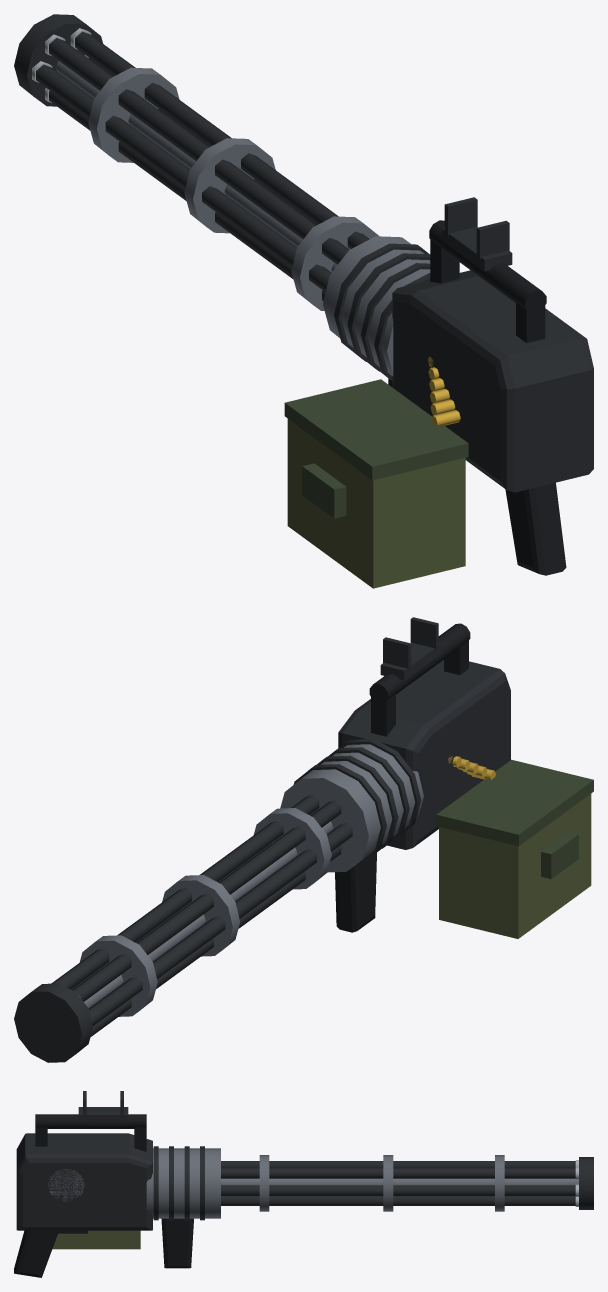
The model's file is minigun.glb.
3 renders of one model, top to bottom at view 1: azimuth 30°, elevation 25°; view 2: azimuth 150°, elevation 25°; view 3: azimuth 270°, elevation 25°, orthographic. The views are drawn at different scales.
Parts seen in each view (by area): view 1: object 5, rotor (×2), chargeur (×3), object 6, object 4; view 2: rotor (×2), chargeur (×2), object 5, object 4, object 6; view 3: rotor (×2), object 5, object 6, object 4, chargeur.
Part boxes in pixels (x1,y1,x2,y2): object 5: (334, 197, 593, 492); rotor (×2): (14, 14, 378, 310); chargeur (×3): (284, 356, 468, 588); object 6: (388, 220, 566, 575); object 4: (323, 236, 430, 376); rotor (×2): (14, 794, 352, 1062); chargeur (×2): (436, 759, 593, 938); object 5: (293, 617, 510, 865); object 4: (280, 744, 423, 872); object 6: (335, 623, 470, 932); rotor (×2): (221, 1155, 593, 1211); object 5: (16, 1091, 204, 1230); object 6: (14, 1114, 193, 1277); object 4: (48, 1148, 220, 1218); chargeur: (52, 1230, 140, 1249).
Bounding box in the file's own units: 0.243 × 0.321 × 0.9365.
